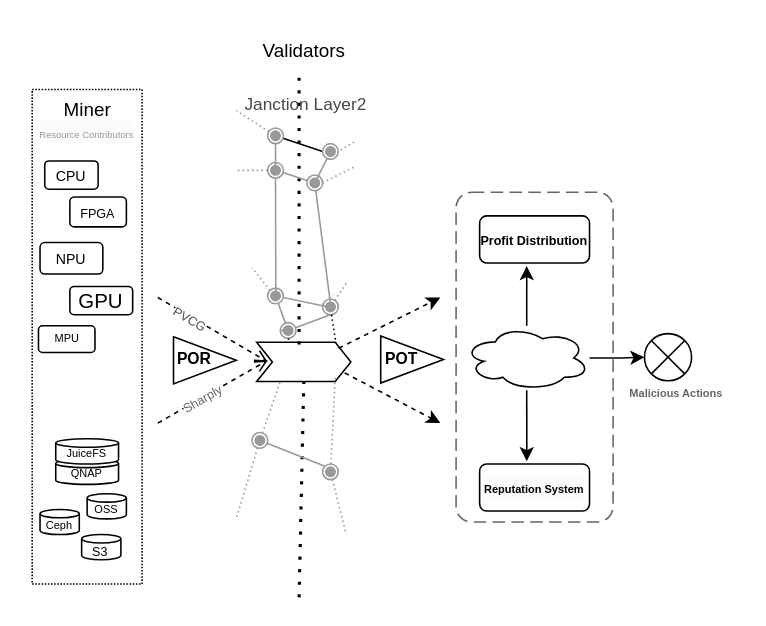
Image size: 766x626. Some labels were removed from this diagram. The shapes that lost their labels are listed below. From the top down, each one's centre as x and y in pixels, then its label:
point 303,361: Task Allocation
point 526,357: Staking
